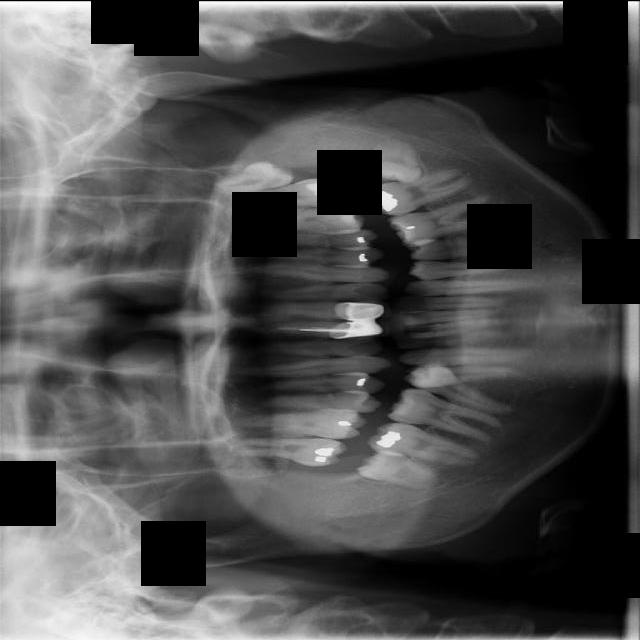52: (361, 167, 426, 230), (363, 408, 427, 466), (388, 205, 445, 251), (330, 299, 390, 341), (288, 433, 352, 469), (310, 406, 371, 440), (292, 174, 349, 209), (314, 200, 366, 236), (327, 368, 387, 395), (325, 245, 387, 269), (325, 228, 380, 250)
73: (269, 318, 347, 338), (590, 29, 599, 38)
BioHorizons Implant: (223, 177, 349, 207)
BioLife Implant: (210, 153, 296, 200)
Biomet 3i Implant: (359, 132, 429, 188)
Blue Sky Bio Implant: (362, 163, 478, 221)
Caries: (212, 436, 349, 466)
Implant: (365, 417, 483, 468)
Keystone Dental Implant: (355, 443, 444, 493)
